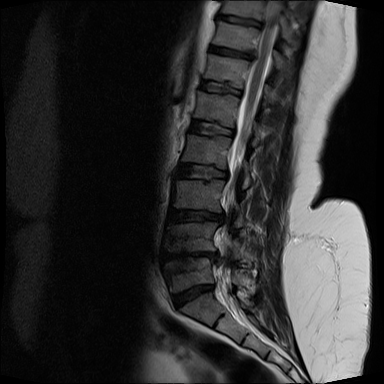Degenerative Disc Disease (DDD): (158, 244, 224, 264)
Lumbar Disc Bulge (LDB): (161, 202, 234, 227), (165, 278, 218, 312), (168, 158, 232, 186)
Normal IVD: (181, 118, 238, 140), (191, 79, 247, 99), (213, 11, 266, 31)
Spinal Stenosis (SS): (203, 199, 231, 233), (211, 158, 242, 188), (200, 240, 226, 265)
Thoracic Disc Bulge (TDB): (200, 42, 261, 63)
